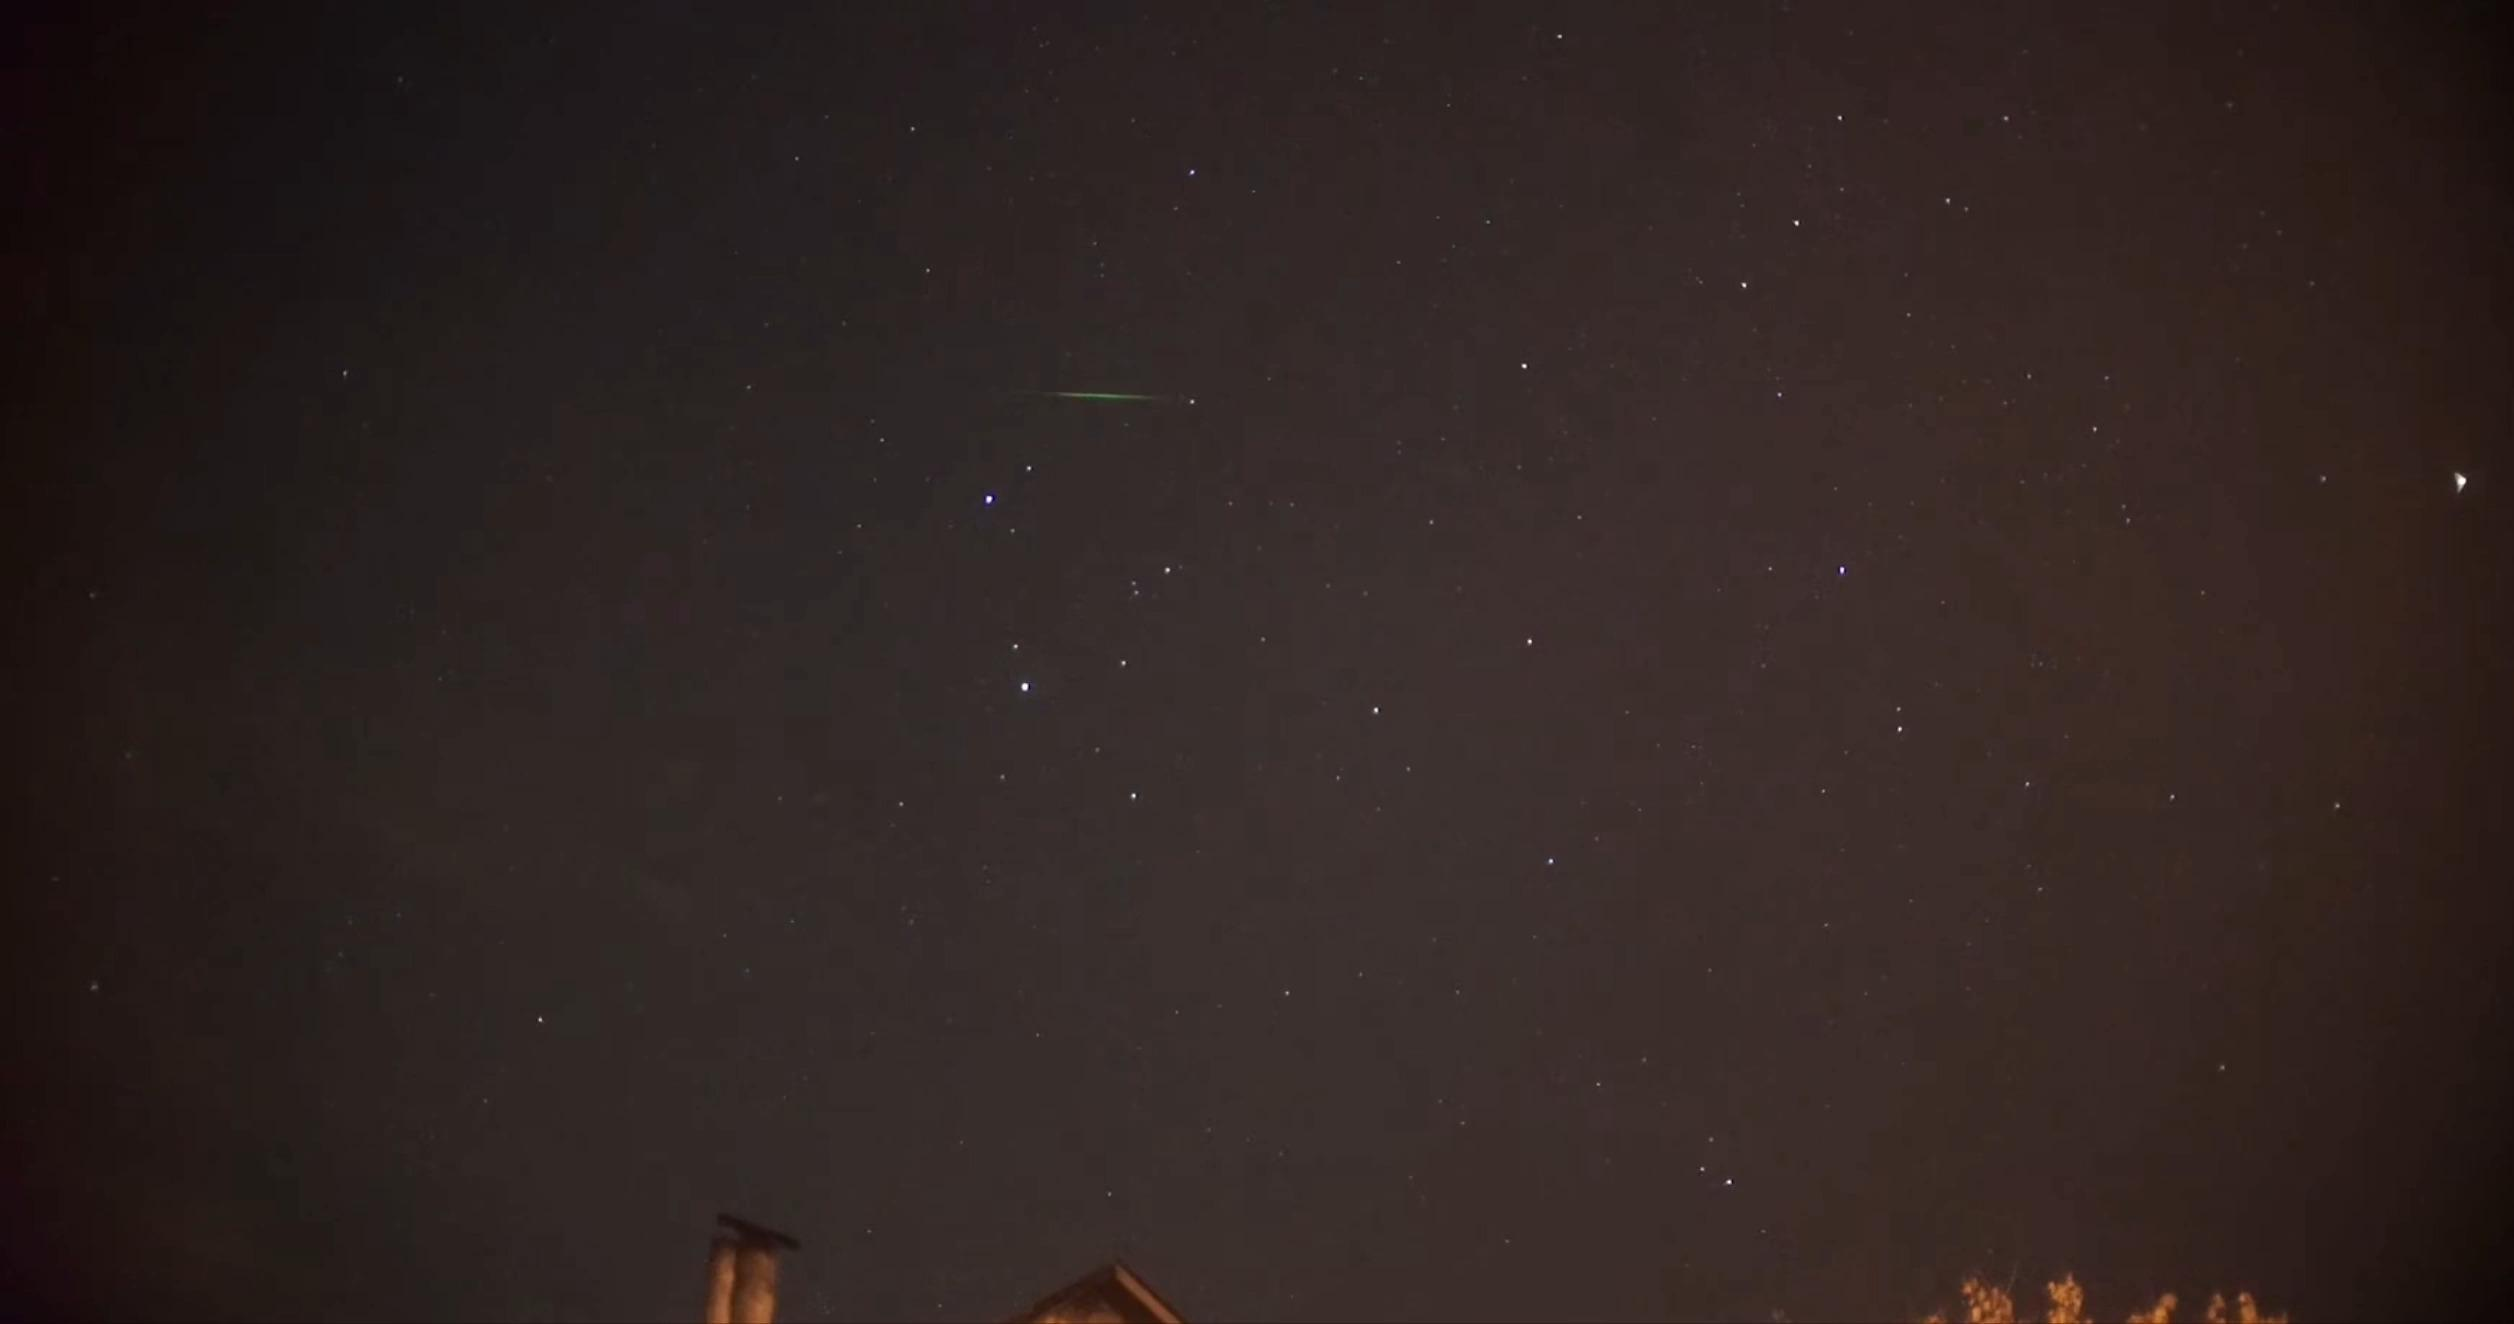meteorite: (1014, 374, 1189, 411)
